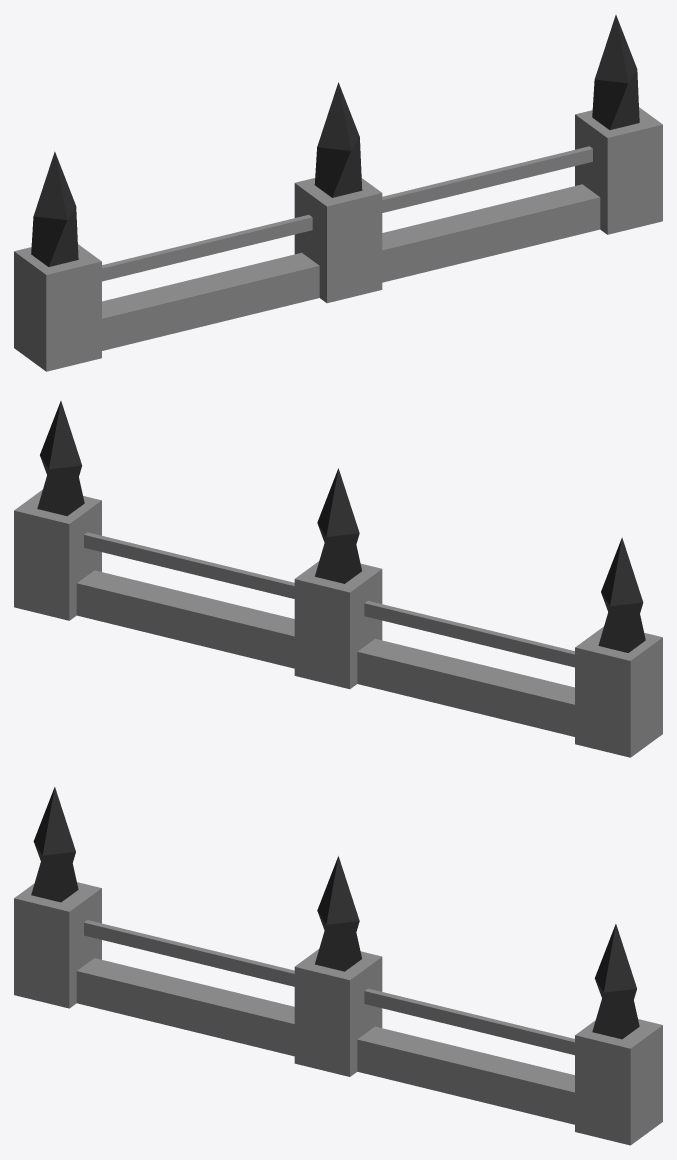
Rendered from fence_05.fbx.
The picture shows the model from 3 angles, top to bottom: view 1: azimuth 30°, elevation 25°; view 2: azimuth 150°, elevation 25°; view 3: azimuth 330°, elevation 25°; orthographic projection.
Parts seen in each view (by area): view 1: fence_05; view 2: fence_05; view 3: fence_05.
Boxes of the visible parts, <box> form: fence_05: <box>14,15,662,371</box>; fence_05: <box>14,401,662,757</box>; fence_05: <box>14,787,662,1145</box>.
Bounding box in the file's own units: 10 × 3.14 × 0.91.
